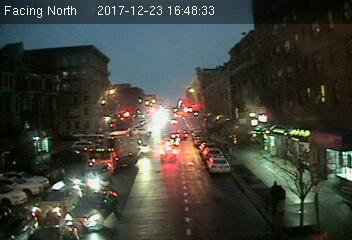car: (64, 189, 119, 229), (32, 179, 81, 220), (206, 156, 230, 172), (159, 146, 177, 160)
